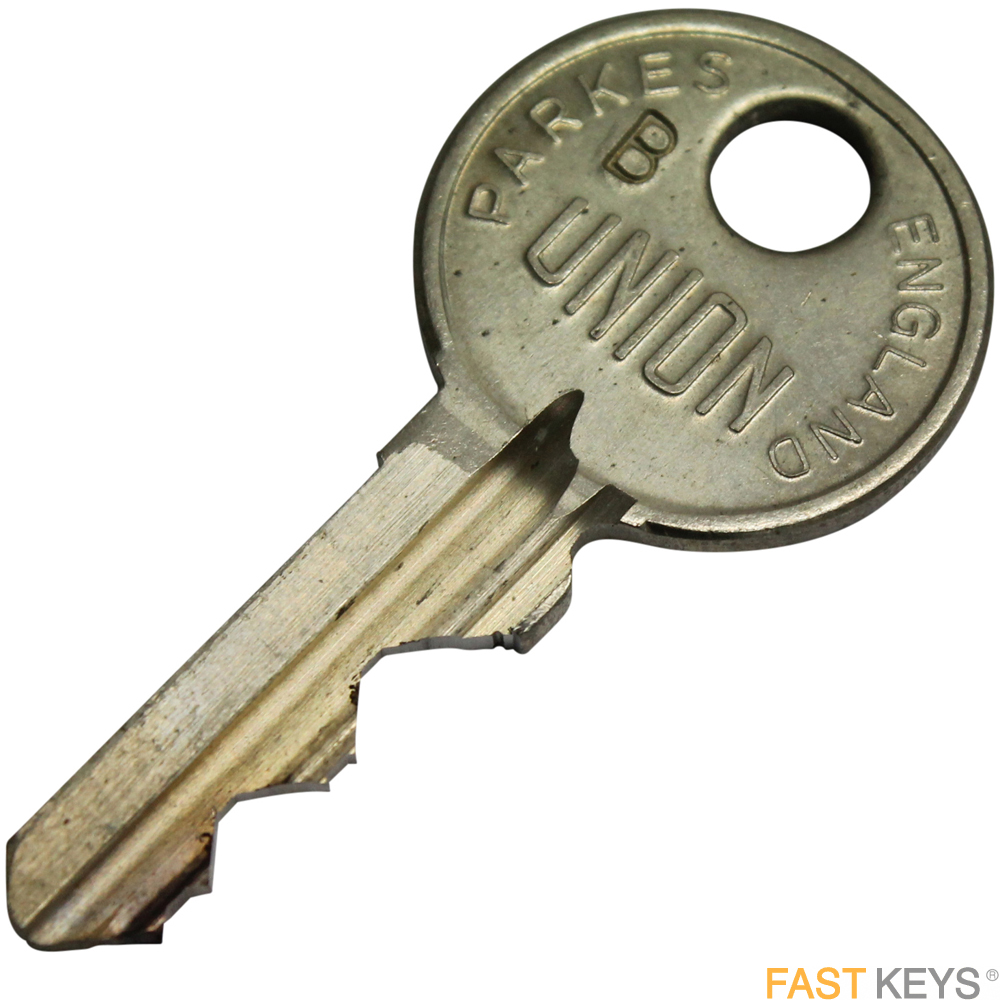key: (7, 7, 1000, 969)
